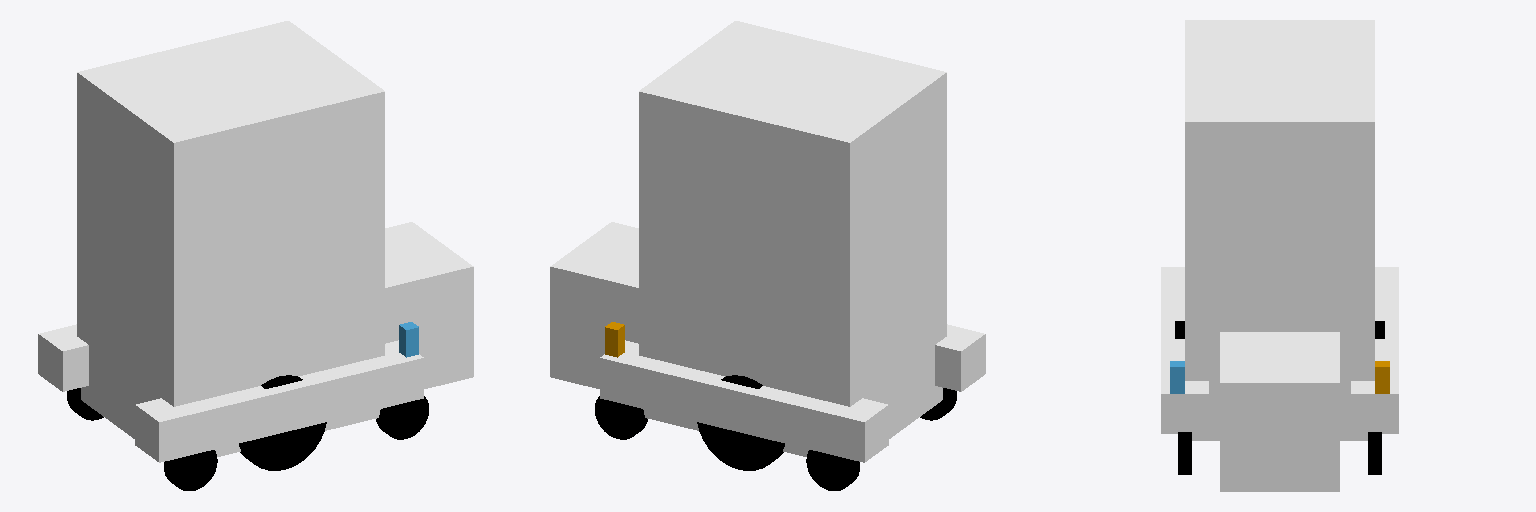
robot.urdf — wheelchair:
<?xml version="1.0" ?>
<!-- =================================================================================== -->
<!-- |    This document was autogenerated by xacro from urdf/wheelchair_gazebo.xacro   | -->
<!-- |    EDITING THIS FILE BY HAND IS NOT RECOMMENDED                                 | -->
<!-- =================================================================================== -->
<robot name="wheelchair" xmlns:xacro="http://www.ros.org/wiki/xacro">
  <!-- From front wheel right joint to front wheel left joint -->
  <!-- From front wheel joint to back wheel joint -->
  <!-- From front wheel joint to head rest -->
  <link name="base_footprint">
    <visual>
      <origin rpy="0 0 0" xyz="0 0 0"/>
      <geometry>
        <!-- <mesh filename="package://wheelchair_description/meshes/wheelchair_rot.dae" scale="0.20 0.20 0.20"/> -->
        <box size="0.001 0.001 0.001"/>
      </geometry>
    </visual>
  </link>
  <joint name="base_footprint_joint" type="fixed">
    <origin rpy="0 0 0" xyz=" 0 0 0.7"/>
    <parent link="base_footprint"/>
    <child link="base_link"/>
  </joint>
  <link name="base_link">
    <visual>
      <geometry>
        <box size="0.812 0.643 1.191"/>
      </geometry>
      <material name="white">
        <color rgba="1 1 1 1"/>
      </material>
    </visual>
    <collision>
      <geometry>
        <box size="0.812 0.643 1.191"/>
      </geometry>
    </collision>
    <inertial>
      <mass value="10.0"/>
      <inertia ixx="1.66916666667" ixy="0" ixz="0" iyy="1.2125" iyz="0" izz="1.52833333333"/>
    </inertial>
  </link>
  <link name="imu_link">
    <inertial>
      <mass value="0.01"/>
      <origin xyz="0 0 0"/>
      <inertia ixx="1.0E-6" ixy="0" ixz="0" iyy="1.0E-6" iyz="0" izz="1.0E-6"/>
    </inertial>
    <visual>
      <origin rpy="0 0 0" xyz="0 0 0"/>
      <geometry>
        <box size="0.01 0.01 0.01"/>
      </geometry>
    </visual>
  </link>
  <joint name="imu_joint" type="fixed">
    <parent link="base_link"/>
    <child link="imu_link"/>
    <origin rpy="3.14159265359 0 0" xyz="0 0 0"/>
  </joint>
  <!--Legs -->
  <link name="legs">
    <visual>
      <geometry>
        <box size="0.4064 0.4064 0.4064"/>
      </geometry>
      <material name="white">
        <color rgba="1 1 1 1"/>
      </material>
    </visual>
    <collision>
      <geometry>
        <box size="0.4064 0.4064 0.4064"/>
      </geometry>
    </collision>
    <inertial>
      <mass value="2.0"/>
      <inertia ixx="0.135466666667" ixy="0" ixz="0" iyy="0.135466666667" iyz="0" izz="0.135466666667"/>
    </inertial>
  </link>
  <joint name="legs_joint" type="fixed">
    <axis xyz="0 0 0"/>
    <parent link="base_link"/>
    <child link="legs"/>
    <origin rpy="0 0 0" xyz="0.6092 0 -0.3923"/>
    <!--chair_height/4 + chair_height/8 because this is relative to the center of the bar -->
  </joint>
  <!--Right Bar -->
  <link name="right_bar">
    <visual>
      <geometry>
        <box size="1.015 0.16075 0.148875"/>
      </geometry>
      <material name="white">
        <color rgba="1 1 1 1"/>
      </material>
    </visual>
    <collision>
      <geometry>
        <box size="1.015 0.16075 0.148875"/>
      </geometry>
    </collision>
    <inertial>
      <mass value="2.0"/>
      <inertia ixx="1e-3" ixy="1e-3" ixz="1e-3" iyy="1e-3" iyz="1e-3" izz="1e-3"/>
    </inertial>
  </link>
  <joint name="right_bar_joint" type="fixed">
    <axis xyz="0 0 0"/>
    <parent link="base_link"/>
    <child link="right_bar"/>
    <origin rpy="0 0 0" xyz="0.0 0.3215 -0.446625"/>
    <!--chair_height/4 + chair_height/8 because this is relative to the center of the bar -->
  </joint>
  <!--Left Bar -->
  <link name="left_bar">
    <visual>
      <geometry>
        <box size="1.015 0.16075 0.148875"/>
      </geometry>
      <material name="white">
        <color rgba="1 1 1 1"/>
      </material>
    </visual>
    <collision>
      <geometry>
        <box size="1.015 0.16075 0.148875"/>
      </geometry>
    </collision>
    <inertial>
      <mass value="2.0"/>
      <inertia ixx="1e-3" ixy="1e-3" ixz="1e-3" iyy="1e-3" iyz="1e-3" izz="1e-3"/>
    </inertial>
  </link>
  <joint name="left_bar_joint" type="fixed">
    <axis xyz="0 0 0"/>
    <parent link="base_link"/>
    <child link="left_bar"/>
    <origin rpy="0 0 0" xyz="0.0 -0.3215 -0.446625"/>
    <!--chair_height/4 + chair_height/8 because this is relative to the center of the bar -->
  </joint>
  <!--Main Wheels -->
  <joint name="right_main_wheel_joint" type="continuous">
    <axis xyz="0 0 -1"/>
    <parent link="right_bar"/>
    <child link="right_main_wheel"/>
    <origin rpy="1.57075 0 0" xyz="0.0 0.0 -0.072875"/>
  </joint>
  <link name="right_main_wheel">
    <visual>
      <geometry>
        <cylinder length="0.065" radius="0.165"/>
      </geometry>
      <material name="white">
        <color rgba="0 0 0 1"/>
      </material>
    </visual>
    <collision>
      <geometry>
        <cylinder length="0.065" radius="0.165"/>
      </geometry>
    </collision>
    <inertial>
      <mass value="2.0"/>
      <inertia ixx="0.0143166666667" ixy="0" ixz="0" iyy="0.0143166666667" iyz="0" izz="0.027225"/>
    </inertial>
  </link>
  <joint name="left_main_wheel_joint" type="continuous">
    <axis xyz="0 0 -1"/>
    <parent link="left_bar"/>
    <child link="left_main_wheel"/>
    <origin rpy="1.57075 0 0" xyz="0.0 0.0 -0.072875"/>
  </joint>
  <link name="left_main_wheel">
    <visual>
      <geometry>
        <cylinder length="0.065" radius="0.165"/>
      </geometry>
      <material name="white">
        <color rgba="0 0 0 1"/>
      </material>
    </visual>
    <collision>
      <geometry>
        <cylinder length="0.065" radius="0.165"/>
      </geometry>
    </collision>
    <inertial>
      <mass value="2.0"/>
      <inertia ixx="0.0143166666667" ixy="0" ixz="0" iyy="0.0143166666667" iyz="0" izz="0.027225"/>
    </inertial>
  </link>
  <!--Laser Scanners -->
  <link name="right_scanner">
    <visual>
      <origin rpy="0 0 0" xyz="0.0 0 0"/>
      <geometry>
        <box size="0.05 0.05 0.1"/>
      </geometry>
    </visual>
    <collision>
      <geometry>
        <box size="0.05 0.05 0.1"/>
      </geometry>
    </collision>
    <inertial>
      <mass value="1e-5"/>
      <inertia ixx="1e-3" ixy="0" ixz="0" iyy="1e-3" iyz="0" izz="1e-3"/>
    </inertial>
  </link>
  <joint name="right_scanner_joint" type="fixed">
    <axis xyz="0 0 0"/>
    <origin rpy="0 0 1.5707" xyz="0.4825 0.025 0.1244375"/>
    <parent link="right_bar"/>
    <child link="right_scanner"/>
  </joint>
  <link name="left_scanner">
    <visual>
      <origin rpy="0 0 0" xyz="0.0 0 0"/>
      <geometry>
        <box size="0.05 0.05 0.1"/>
      </geometry>
    </visual>
    <collision>
      <geometry>
        <box size="0.05 0.05 0.1"/>
      </geometry>
    </collision>
    <inertial>
      <mass value="1e-5"/>
      <inertia ixx="1e-3" ixy="0" ixz="0" iyy="1e-3" iyz="0" izz="1e-3"/>
    </inertial>
  </link>
  <joint name="left_scanner_joint" type="fixed">
    <axis xyz="0 0 0"/>
    <origin rpy="0 0 -1.5707" xyz="0.4825 -0.025 0.1244375"/>
    <parent link="left_bar"/>
    <child link="left_scanner"/>
  </joint>
  <!--Front Wheels -->
  <link name="front_right_swivel">
    <visual>
      <geometry>
        <cylinder length="0.065" radius="0.01"/>
      </geometry>
      <material name="white">
        <color rgba="0 0 0 1"/>
      </material>
    </visual>
    <collision>
      <geometry>
        <cylinder length="0.065" radius="0.01"/>
      </geometry>
    </collision>
    <inertial>
      <mass value=".1"/>
      <inertia ixx="3.77083333333e-05" ixy="0" ixz="0" iyy="3.77083333333e-05" iyz="0" izz="5e-06"/>
    </inertial>
  </link>
  <joint name="front_right_swivel_joint" type="continuous">
    <axis xyz="0 0 1"/>
    <parent link="right_bar"/>
    <child link="front_right_swivel"/>
    <origin rpy="0 0 0" xyz="-0.406 0.0 -0.148875"/>
    <dynamics damping="0.0" friction="0.5"/>
  </joint>
  <joint name="front_right_wheel_joint" type="continuous">
    <axis xyz="0 0 1"/>
    <parent link="front_right_swivel"/>
    <child link="front_right_wheel"/>
    <origin rpy="1.57075 0 0" xyz="0.065 0 0"/>
    <dynamics damping="0.0" friction="0.5"/>
  </joint>
  <link name="front_right_wheel">
    <visual>
      <geometry>
        <cylinder length="0.05" radius="0.089"/>
      </geometry>
      <material name="white">
        <color rgba="0 0 0 1"/>
      </material>
    </visual>
    <collision>
      <geometry>
        <cylinder length="0.05" radius="0.089"/>
      </geometry>
      <surface>
        <friction>
          <ode>
            <mu>1.0</mu>
            <mu2>1.0</mu2>
          </ode>
        </friction>
      </surface>
    </collision>
    <inertial>
      <mass value="1.0"/>
      <inertia ixx="0.00218858333333" ixy="0" ixz="0" iyy="0.00218858333333" iyz="0" izz="0.0039605"/>
    </inertial>
  </link>
  <link name="front_left_swivel">
    <visual>
      <geometry>
        <cylinder length="0.065" radius="0.01"/>
      </geometry>
      <material name="white">
        <color rgba="0 0 0 1"/>
      </material>
    </visual>
    <collision>
      <geometry>
        <cylinder length="0.065" radius="0.01"/>
      </geometry>
    </collision>
    <inertial>
      <mass value=".1"/>
      <inertia ixx="3.77083333333e-05" ixy="0" ixz="0" iyy="3.77083333333e-05" iyz="0" izz="5e-06"/>
    </inertial>
  </link>
  <joint name="front_left_swivel_joint" type="continuous">
    <axis xyz="0 0 1"/>
    <parent link="left_bar"/>
    <child link="front_left_swivel"/>
    <origin rpy="0 0 0" xyz="-0.406 0.0 -0.148875"/>
    <dynamics damping="0.0" friction="0.5"/>
  </joint>
  <joint name="front_left_wheel_joint" type="continuous">
    <axis xyz="0 0 1"/>
    <parent link="front_left_swivel"/>
    <child link="front_left_wheel"/>
    <origin rpy="1.57075 0 0" xyz="0.065 0 0"/>
    <dynamics damping="0" friction="0.5"/>
  </joint>
  <link name="front_left_wheel">
    <visual>
      <geometry>
        <cylinder length="0.05" radius="0.089"/>
      </geometry>
      <material name="white">
        <color rgba="0 0 0 1"/>
      </material>
    </visual>
    <collision>
      <geometry>
        <cylinder length="0.05" radius="0.089"/>
      </geometry>
      <surface>
        <friction>
          <ode>
            <mu>1.0</mu>
            <mu2>1.0</mu2>
          </ode>
        </friction>
      </surface>
    </collision>
    <inertial>
      <mass value="1.0"/>
      <inertia ixx="0.00218858333333" ixy="0" ixz="0" iyy="0.00218858333333" iyz="0" izz="0.0039605"/>
    </inertial>
  </link>
  <!--Rear Wheels -->
  <link name="rear_right_swivel">
    <visual>
      <geometry>
        <cylinder length="0.065" radius="0.01"/>
      </geometry>
      <material name="white">
        <color rgba="0 0 0 1"/>
      </material>
    </visual>
    <collision>
      <geometry>
        <cylinder length="0.065" radius="0.01"/>
      </geometry>
    </collision>
    <inertial>
      <mass value=".1"/>
      <inertia ixx="3.77083333333e-05" ixy="0" ixz="0" iyy="3.77083333333e-05" iyz="0" izz="5e-06"/>
    </inertial>
  </link>
  <joint name="rear_right_swivel_joint" type="continuous">
    <axis xyz="0 0 1"/>
    <parent link="right_bar"/>
    <child link="rear_right_swivel"/>
    <origin rpy="0 0 0" xyz="0.406 0.0 -0.148875"/>
    <dynamics damping="0.0" friction="0.5"/>
  </joint>
  <joint name="rear_right_wheel_joint" type="continuous">
    <axis xyz="0 0 1"/>
    <parent link="rear_right_swivel"/>
    <child link="rear_right_wheel"/>
    <origin rpy="1.57075 0 0" xyz="0.065 0 0"/>
    <dynamics damping="0" friction="0.5"/>
  </joint>
  <link name="rear_right_wheel">
    <visual>
      <geometry>
        <cylinder length="0.05" radius="0.089"/>
      </geometry>
      <material name="white">
        <color rgba="0 0 0 1"/>
      </material>
    </visual>
    <collision>
      <geometry>
        <cylinder length="0.05" radius="0.089"/>
      </geometry>
      <surface>
        <friction>
          <ode>
            <mu>1.0</mu>
            <mu2>1.0</mu2>
          </ode>
        </friction>
      </surface>
    </collision>
    <inertial>
      <mass value="1.0"/>
      <inertia ixx="0.00218858333333" ixy="0" ixz="0" iyy="0.00218858333333" iyz="0" izz="0.0039605"/>
    </inertial>
  </link>
  <link name="rear_left_swivel">
    <visual>
      <geometry>
        <cylinder length="0.065" radius="0.01"/>
      </geometry>
      <material name="white">
        <color rgba="0 0 0 1"/>
      </material>
    </visual>
    <collision>
      <geometry>
        <cylinder length="0.065" radius="0.01"/>
      </geometry>
    </collision>
    <inertial>
      <mass value=".1"/>
      <inertia ixx="3.77083333333e-05" ixy="0" ixz="0" iyy="3.77083333333e-05" iyz="0" izz="5e-06"/>
    </inertial>
  </link>
  <joint name="rear_left_swivel_joint" type="continuous">
    <axis xyz="0 0 1"/>
    <parent link="left_bar"/>
    <child link="rear_left_swivel"/>
    <origin rpy="0 0 0" xyz="0.406 0.0 -0.148875"/>
    <dynamics damping="0.0" friction="0.5"/>
  </joint>
  <joint name="rear_left_wheel_joint" type="continuous">
    <axis xyz="0 0 1"/>
    <parent link="rear_left_swivel"/>
    <child link="rear_left_wheel"/>
    <origin rpy="1.57075 0 0" xyz="0.065 0 0"/>
    <dynamics damping="0" friction="0.5"/>
  </joint>
  <link name="rear_left_wheel">
    <visual>
      <geometry>
        <cylinder length="0.05" radius="0.089"/>
      </geometry>
      <material name="white">
        <color rgba="0 0 0 1"/>
      </material>
    </visual>
    <collision>
      <geometry>
        <cylinder length="0.05" radius="0.089"/>
      </geometry>
      <surface>
        <friction>
          <ode>
            <mu>1.0</mu>
            <mu2>1.0</mu2>
          </ode>
        </friction>
      </surface>
    </collision>
    <inertial>
      <mass value="1.0"/>
      <inertia ixx="0.00218858333333" ixy="0" ixz="0" iyy="0.00218858333333" iyz="0" izz="0.0039605"/>
    </inertial>
  </link>
  <gazebo>
    <plugin filename="libgazebo_ros_diff_drive.so" name="differential_drive_controller">
      <alwaysOn>true</alwaysOn>
      <updateRate>50</updateRate>
      <leftJoint>left_main_wheel_joint</leftJoint>
      <rightJoint>right_main_wheel_joint</rightJoint>
      <wheelSeparation>0.643</wheelSeparation>
      <wheelDiameter>0.33</wheelDiameter>
      <torque>20</torque>
      <commandTopic>cmd_vel</commandTopic>
      <odometryTopic>odom_temp</odometryTopic>
      <odometryFrame>odom_temp</odometryFrame>
      <robotBaseFrame>base_footprint</robotBaseFrame>
      <publishTf>0</publishTf>
    </plugin>
  </gazebo>
  <!--
<gazebo>
  <plugin name="quadrotor_imu_sim" filename="libhector_gazebo_ros_imu.so">
    <updateRate>50.0</updateRate>
    <bodyName>imu_link</bodyName>
    <frameId>imu_link</frameId>
    <topicName>imu/data</topicName>
    <rpyOffsets>0 0 0</rpyOffsets>
    <gaussianNoise>0</gaussianNoise>
    <accelDrift>0.5 0.5 0.5</accelDrift>
    <accelGaussianNoise>0.05 0.05 0.05</accelGaussianNoise>
    <rateDrift>0.1 0.1 0.1</rateDrift>
    <rateGaussianNoise>0.05 0.05 0.015</rateGaussianNoise>
    <headingDrift>0.1</headingDrift>
    <headingGaussianNoise>0.05</headingGaussianNoise>
  </plugin>
</gazebo>  
-->
  <gazebo reference="right_scanner">
    <sensor name="head_hokuyo_sensor" type="ray">
      <pose>0 0 0 0 0 0</pose>
      <visualize>true</visualize>
      <update_rate>40</update_rate>
      <ray>
        <scan>
          <horizontal>
            <samples>720</samples>
            <resolution>1</resolution>
            <min_angle>-2.3561925</min_angle>
            <max_angle>1.57079</max_angle>
          </horizontal>
        </scan>
        <range>
          <min>0.2</min>
          <max>10.1</max>
          <resolution>0.01</resolution>
        </range>
        <noise>
          <type>gaussian</type>
          <mean>0.0</mean>
          <stddev>0.02</stddev>
        </noise>
      </ray>
      <plugin filename="libgazebo_ros_laser.so" name="gazebo_ros_head_hokuyo_controller">
        <topicName>/wheelchair_lasers/right</topicName>
        <frameName>right_scanner</frameName>
      </plugin>
    </sensor>
  </gazebo>
  <gazebo reference="left_scanner">
    <sensor name="head_hokuyo_sensor2" type="ray">
      <pose>0 0 0 0 0 0</pose>
      <visualize>true</visualize>
      <update_rate>40</update_rate>
      <ray>
        <scan>
          <horizontal>
            <samples>720</samples>
            <resolution>1</resolution>
            <min_angle>-1.57079</min_angle>
            <max_angle>2.3561925</max_angle>
          </horizontal>
        </scan>
        <range>
          <min>0.2</min>
          <max>10.1</max>
          <resolution>0.01</resolution>
        </range>
        <noise>
          <type>gaussian</type>
          <mean>0.0</mean>
          <stddev>0.02</stddev>
        </noise>
      </ray>
      <plugin filename="libgazebo_ros_laser.so" name="gazebo_ros_head_hokuyo_controller2">
        <topicName>/wheelchair_lasers/left</topicName>
        <frameName>left_scanner</frameName>
      </plugin>
    </sensor>
  </gazebo>
</robot>

--- Render facts (derived) ---
The picture shows the robot from 3 angles, left to right: view 1: azimuth 30°, elevation 25°; view 2: azimuth 150°, elevation 25°; view 3: azimuth 270°, elevation 25°; orthographic projection.
Model wheelchair with 18 links and 17 joints (10 continuous, 7 fixed), rooted at base_footprint, posed every joint at zero.
Links seen in each view (by area): view 1: base_link, left_bar, legs, right_bar, left_main_wheel, front_left_wheel, rear_left_wheel, left_scanner, front_right_wheel; view 2: base_link, right_bar, legs, left_bar, right_main_wheel, front_right_wheel, rear_right_wheel, right_scanner, front_left_wheel; view 3: base_link, legs, right_bar, left_bar, rear_right_wheel, rear_left_wheel.
Boxes of the visible links, <box> form: base_link: <box>77,21,384,456</box>; left_bar: <box>135,340,423,462</box>; legs: <box>385,222,473,388</box>; right_bar: <box>38,324,88,391</box>; left_main_wheel: <box>239,375,326,470</box>; front_left_wheel: <box>164,450,217,490</box>; rear_left_wheel: <box>376,396,428,439</box>; left_scanner: <box>399,322,418,357</box>; front_right_wheel: <box>67,388,103,420</box>; base_link: <box>639,21,946,456</box>; right_bar: <box>600,340,888,462</box>; legs: <box>550,222,638,388</box>; left_bar: <box>935,324,985,391</box>; right_main_wheel: <box>697,375,784,470</box>; front_right_wheel: <box>806,450,859,490</box>; rear_right_wheel: <box>595,396,647,439</box>; right_scanner: <box>605,322,624,357</box>; front_left_wheel: <box>920,388,956,420</box>; base_link: <box>1185,20,1374,440</box>; legs: <box>1220,332,1339,491</box>; right_bar: <box>1351,267,1398,433</box>; left_bar: <box>1161,267,1208,433</box>; rear_right_wheel: <box>1368,432,1381,474</box>; rear_left_wheel: <box>1178,432,1191,474</box>.
Size in the robot's own frame: 1.32 by 0.8037 by 1.3 metres.
Geometry: primitives only (box / cylinder / sphere), no mesh files.
